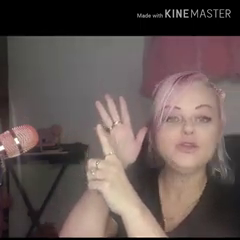U: (83, 89, 154, 204)
